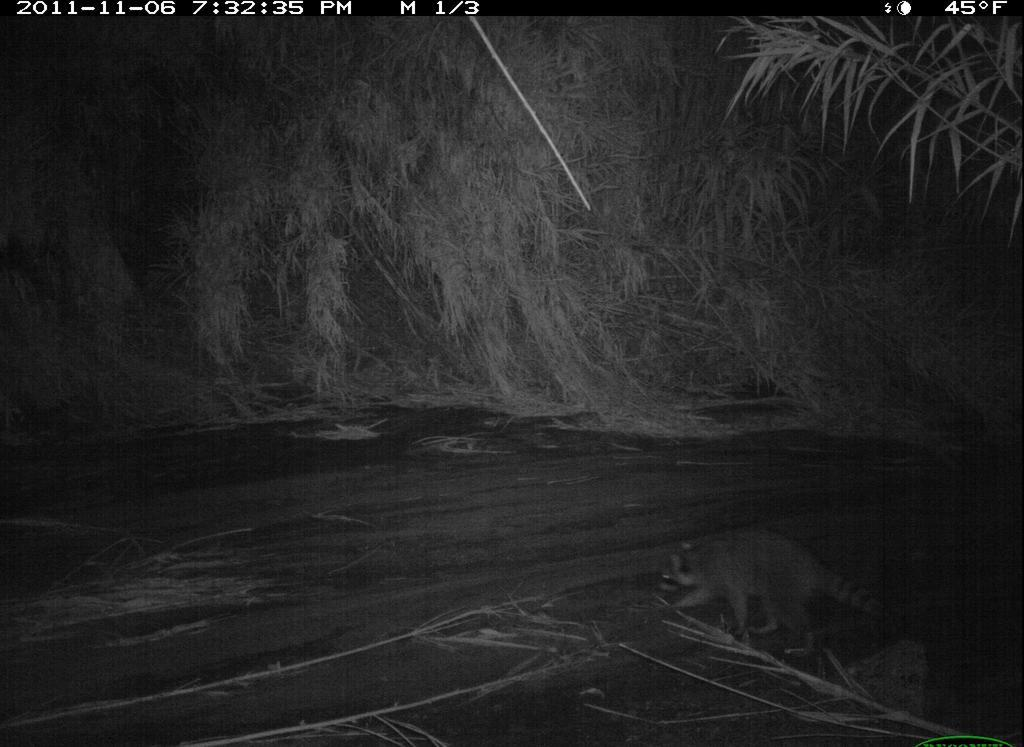raccoon: (648, 513, 902, 666)
